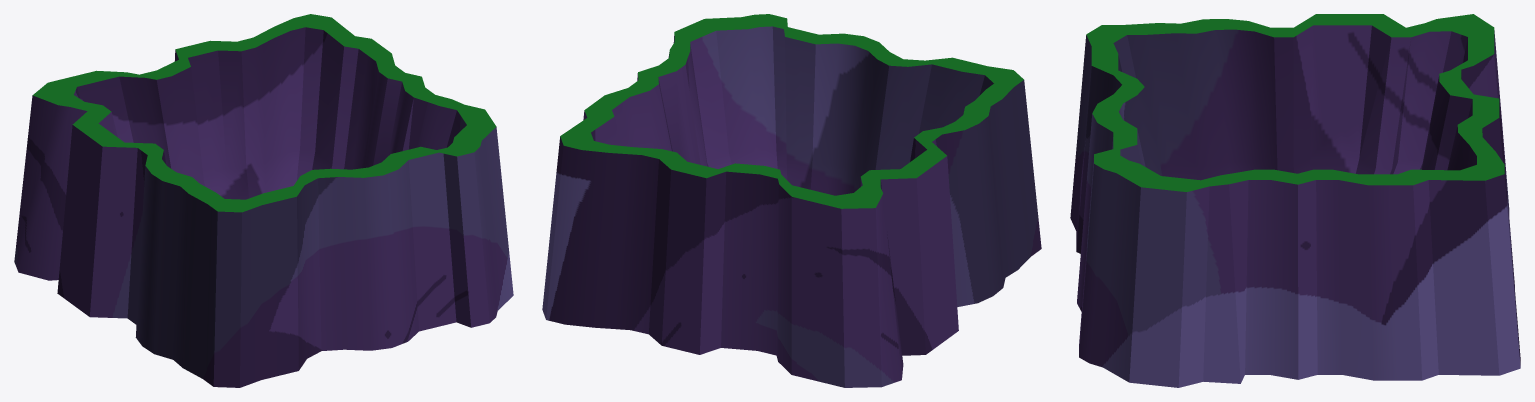
Rendered from Mapa Piedras Batalla.fbx.
3 views of the same model, side by side, from view 1: azimuth 30°, elevation 25°; view 2: azimuth 150°, elevation 25°; view 3: azimuth 270°, elevation 25° (orthographic). The views are drawn at different scales.
Parts seen in each view (by area): view 1: Piedras Batalla Pared; view 2: Piedras Batalla Pared; view 3: Piedras Batalla Pared.
Boxes of the visible parts, x1,y1,x2,y2 form: Piedras Batalla Pared: (14, 14, 513, 387); Piedras Batalla Pared: (542, 14, 1041, 387); Piedras Batalla Pared: (1070, 14, 1520, 387).
Size of the model in its own units: 65365 by 63464 by 29380.
2 materials, 1 textured.
